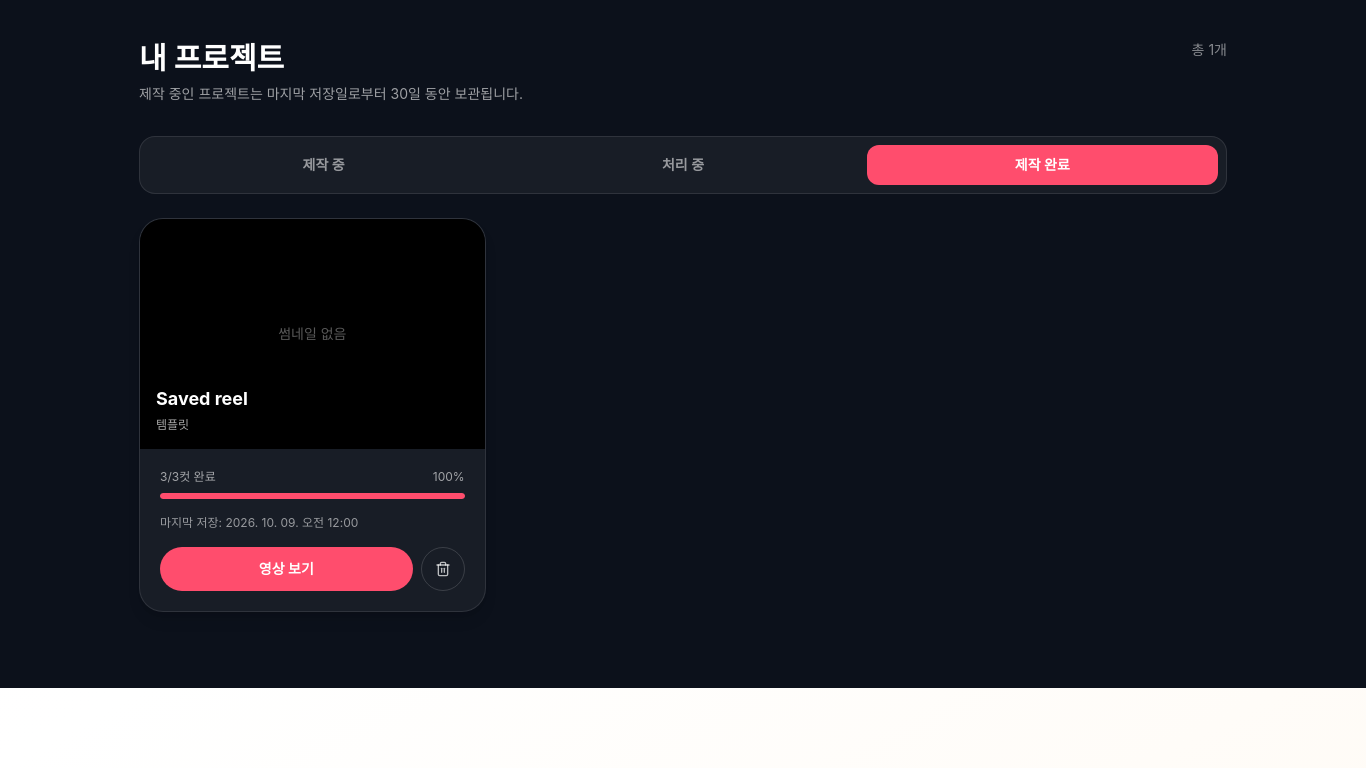
keeps a completed project visible when individual deletion fails
Click the button named "프로젝트 삭제" at x=443, y=569, box [421,547,465,591]
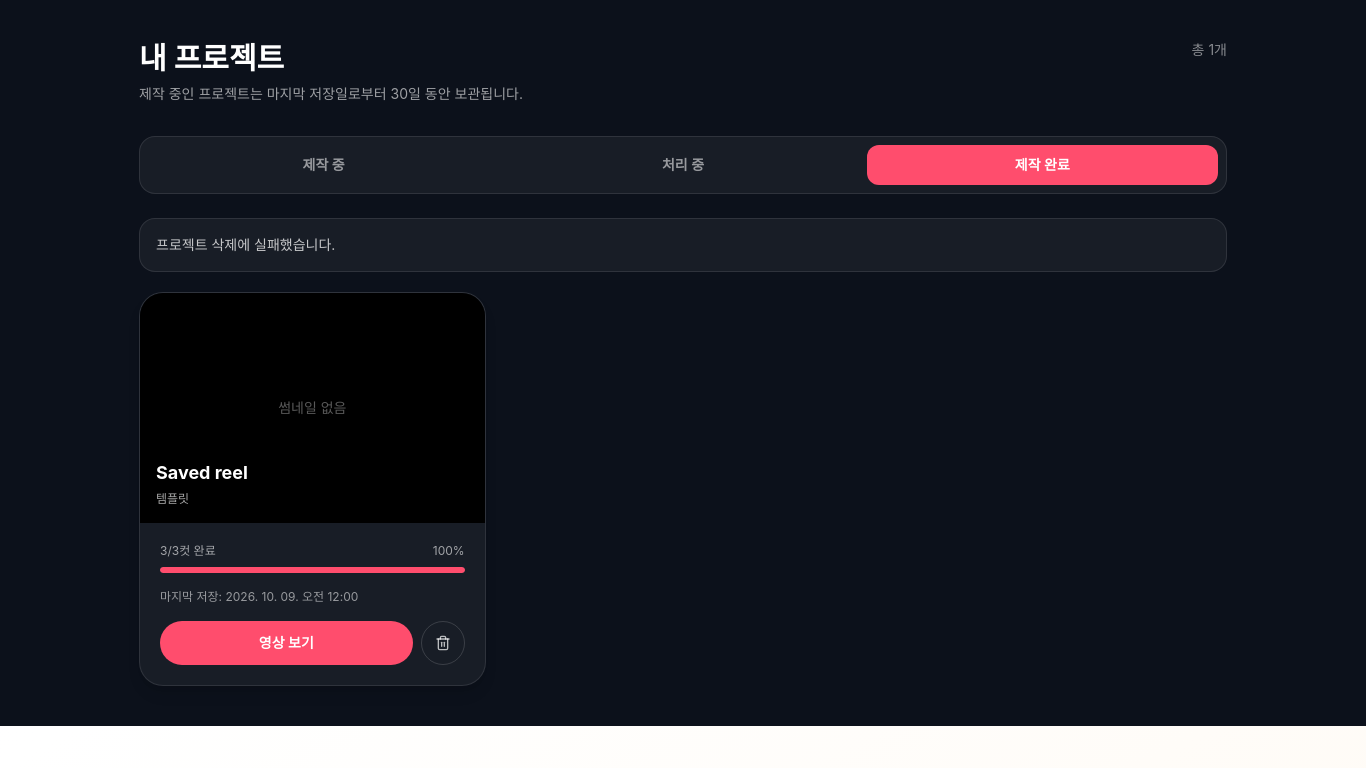
Expected: the heading "Saved reel" is shown, [156,462,248,483]
Expected: the text "프로젝트 삭제에 실패했습니다." is shown, [139,218,1227,272]
